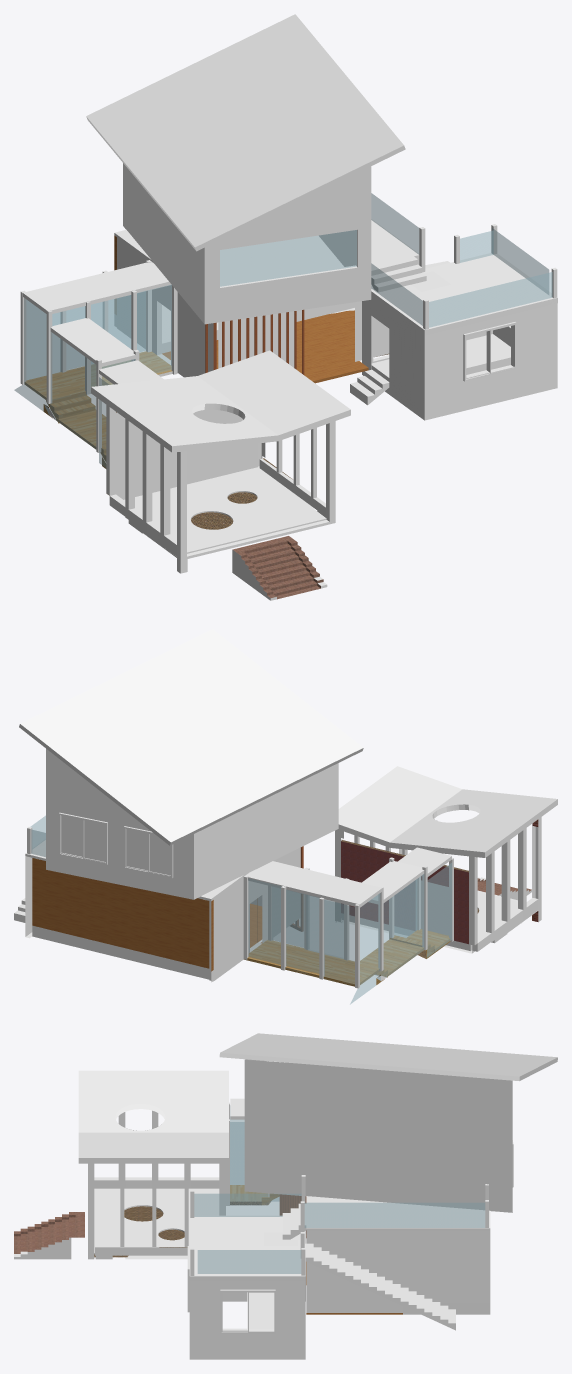
The picture shows the model from 3 angles, top to bottom: view 1: azimuth 30°, elevation 25°; view 2: azimuth 150°, elevation 25°; view 3: azimuth 270°, elevation 25°; orthographic projection. The views are drawn at different scales.
Visible parts, largest first — view 1: Root Node, xiewuding, 第二, 3, 5924067, Stair#8, Stair#9, Stair#1, Window#3; view 2: Root Node, xiewuding, 3, 柱子 150*150 (×5), Window#5 (×2); view 3: Root Node, 3, 第二, xiewuding, Stair#7, 柱子 150*150 (×3), Stair#8, Window#3.
Boxes of the visible parts, x1,y1,x2,y2 form: Root Node: (14, 166, 557, 600); xiewuding: (86, 14, 405, 251); 第二: (362, 253, 557, 420); 3: (123, 163, 371, 324); 5924067: (205, 309, 304, 374); Stair#8: (371, 256, 426, 292); Stair#9: (350, 369, 389, 405); Stair#1: (46, 391, 95, 423); Window#3: (463, 322, 516, 381); Root Node: (25, 749, 557, 1004); xiewuding: (19, 629, 363, 845); 3: (46, 763, 338, 899); 柱子 150*150 (×5): (243, 865, 427, 979); Window#5 (×2): (58, 812, 173, 878); Root Node: (14, 1059, 512, 1329); 3: (244, 1061, 512, 1212); 第二: (189, 1215, 305, 1359); xiewuding: (219, 1033, 557, 1081); Stair#7: (305, 1243, 455, 1330); 柱子 150*150 (×3): (120, 1163, 188, 1246); Stair#8: (282, 1203, 306, 1239); Window#3: (220, 1289, 275, 1333).
Bounding box in the file's own units: 18.13 × 12.18 × 20.61.
Materials: 917 (266 with a texture image).
